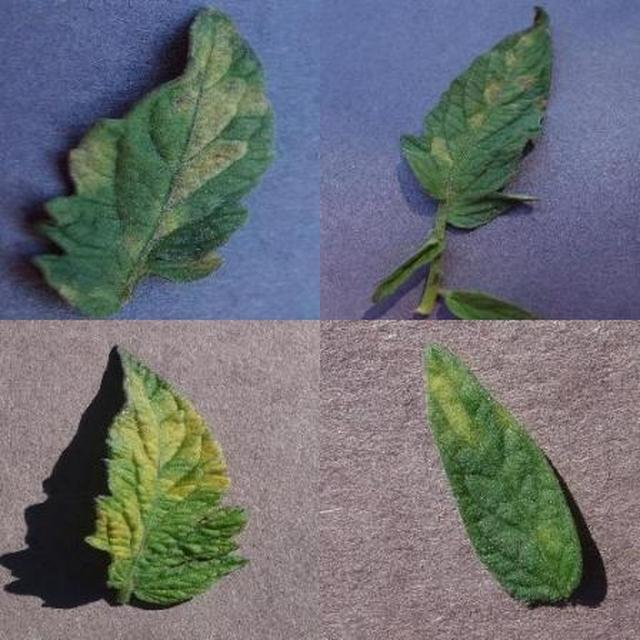Leaf Mold: (218, 166, 640, 640)
